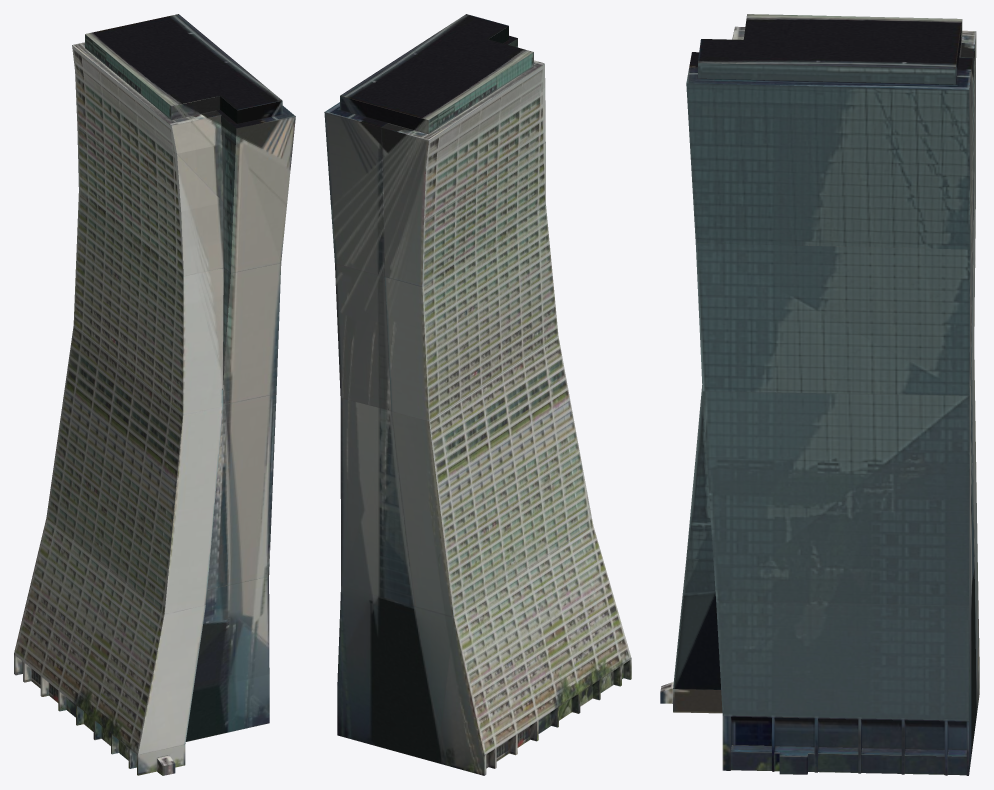
3 views of the same model, side by side, from view 1: azimuth 30°, elevation 25°; view 2: azimuth 150°, elevation 25°; view 3: azimuth 270°, elevation 25° (orthographic). The views are drawn at different scales.
Parts seen in each view (by area): view 1: 9_0.glb; view 2: 9_0.glb; view 3: 9_0.glb.
Part boxes in pixels (box(x1,y1,x2,y2)): 9_0.glb: box(14, 14, 295, 775); 9_0.glb: box(324, 14, 631, 775); 9_0.glb: box(660, 14, 979, 775).
Size of the model in its own units: 52.47 by 181 by 73.93.
1 material, 1 textured.
